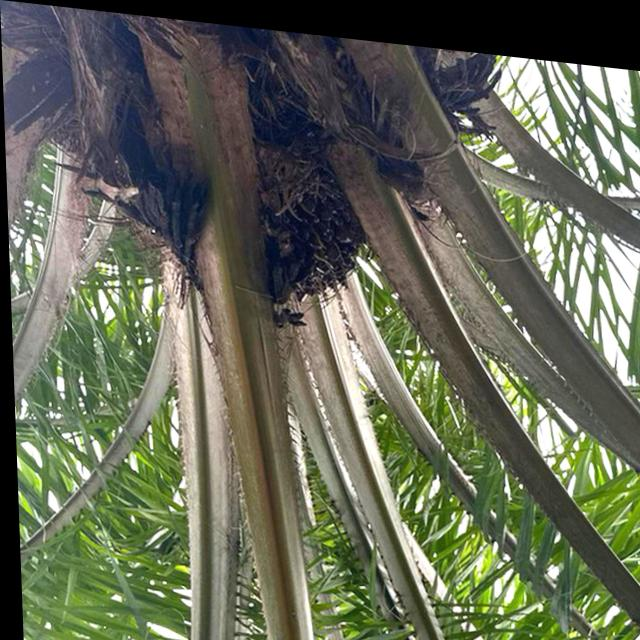almost: (240, 139, 373, 316)
